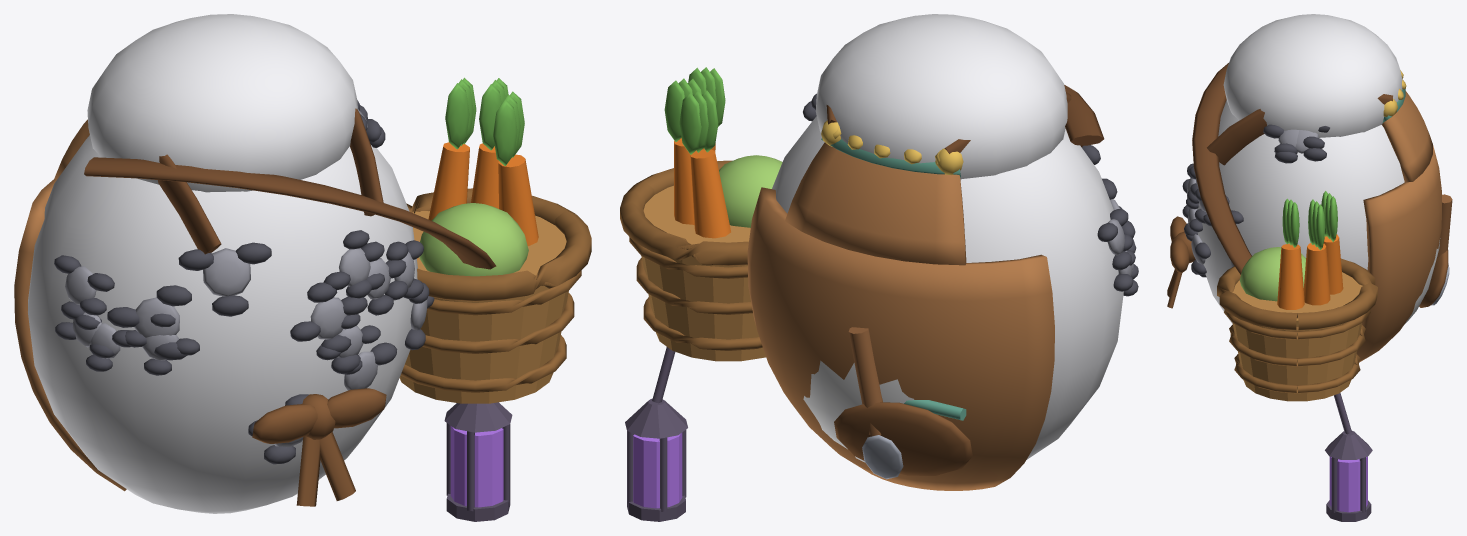
The model's file is SnowLeopardBody.glb.
3 views of the same model, side by side, from view 1: azimuth 30°, elevation 25°; view 2: azimuth 150°, elevation 25°; view 3: azimuth 270°, elevation 25° (orthographic). The views are drawn at different scales.
Visible parts, largest first — view 1: SnowLeopardBody__Fur, SnowLeopardBody__Spot, SnowLeopardBody__BasketDark, SnowLeopardBody__Basket, SnowLeopardBody__Strap, SnowLeopardBody__SpotMid, SnowLeopardBody__ApronDark, SnowLeopardBody__Carrot, SnowLeopardBody__Cabbage, SnowLeopardBody__Apron, SnowLeopardBody__Leaf, SnowLeopardBody__LanternMetal (+1 smaller); view 2: SnowLeopardBody__Apron, SnowLeopardBody__Fur, SnowLeopardBody__Basket, SnowLeopardBody__BasketDark, SnowLeopardBody__ApronDark, SnowLeopardBody__LanternMetal, SnowLeopardBody__Carrot, SnowLeopardBody__Leaf, SnowLeopardBody__Belly, SnowLeopardBody__LanternGlass, SnowLeopardBody__Cabbage, SnowLeopardBody__Spot (+5 smaller); view 3: SnowLeopardBody__Fur, SnowLeopardBody__Apron, SnowLeopardBody__BasketDark, SnowLeopardBody__Basket, SnowLeopardBody__Strap, SnowLeopardBody__Carrot, SnowLeopardBody__Spot, SnowLeopardBody__LanternMetal, SnowLeopardBody__ApronDark, SnowLeopardBody__Leaf, SnowLeopardBody__Cabbage, SnowLeopardBody__LanternGlass (+2 smaller).
Part boxes in pixels (x1,y1,x2,y2): SnowLeopardBody__Fur: (28,14,417,513); SnowLeopardBody__Spot: (54,100,434,464); SnowLeopardBody__BasketDark: (400,188,591,392); SnowLeopardBody__Basket: (399,211,568,403); SnowLeopardBody__Strap: (84,108,496,269); SnowLeopardBody__SpotMid: (65,109,427,447); SnowLeopardBody__ApronDark: (252,388,386,506); SnowLeopardBody__Carrot: (428,142,538,245); SnowLeopardBody__Cabbage: (419,203,528,276); SnowLeopardBody__Apron: (14,119,126,491); SnowLeopardBody__Leaf: (445,77,524,165); SnowLeopardBody__LanternMetal: (444,402,512,521); SnowLeopardBody__Apron: (747,142,1054,490); SnowLeopardBody__Fur: (772,14,1123,459); SnowLeopardBody__Basket: (641,185,765,361); SnowLeopardBody__BasketDark: (620,160,762,350); SnowLeopardBody__ApronDark: (834,402,972,475); SnowLeopardBody__LanternMetal: (625,347,687,521); SnowLeopardBody__Carrot: (674,138,730,238); SnowLeopardBody__Leaf: (664,67,725,154); SnowLeopardBody__Belly: (803,360,914,462); SnowLeopardBody__LanternGlass: (633,432,682,508); SnowLeopardBody__Cabbage: (719,155,782,227); SnowLeopardBody__Spot: (803,93,1138,296); SnowLeopardBody__Fur: (1197,14,1404,323); SnowLeopardBody__Apron: (1356,91,1441,362); SnowLeopardBody__BasketDark: (1217,258,1377,393); SnowLeopardBody__Basket: (1232,272,1362,401); SnowLeopardBody__Strap: (1192,63,1392,274); SnowLeopardBody__Carrot: (1277,234,1343,309); SnowLeopardBody__Spot: (1182,124,1329,277); SnowLeopardBody__LanternMetal: (1325,393,1372,521); SnowLeopardBody__ApronDark: (1167,216,1448,308); SnowLeopardBody__Leaf: (1282,191,1337,249); SnowLeopardBody__Cabbage: (1239,247,1305,301); SnowLeopardBody__LanternGlass: (1329,456,1367,512).
Bounding box in the file's own units: 1.31 × 1.35 × 0.8878.
